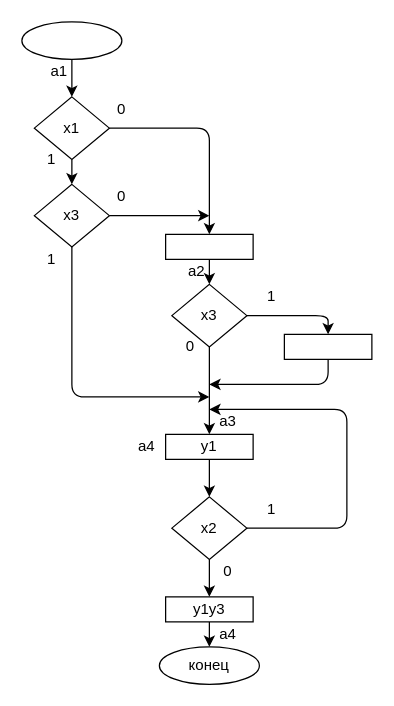
Image size: 394x706. Some labels were removed from this diagram. The centre of each missing label's shape, as x and y in pixels:
"y2" goes at (208,246).
"y2y3" goes at (327,346).
"начало" goes at (71,40).
